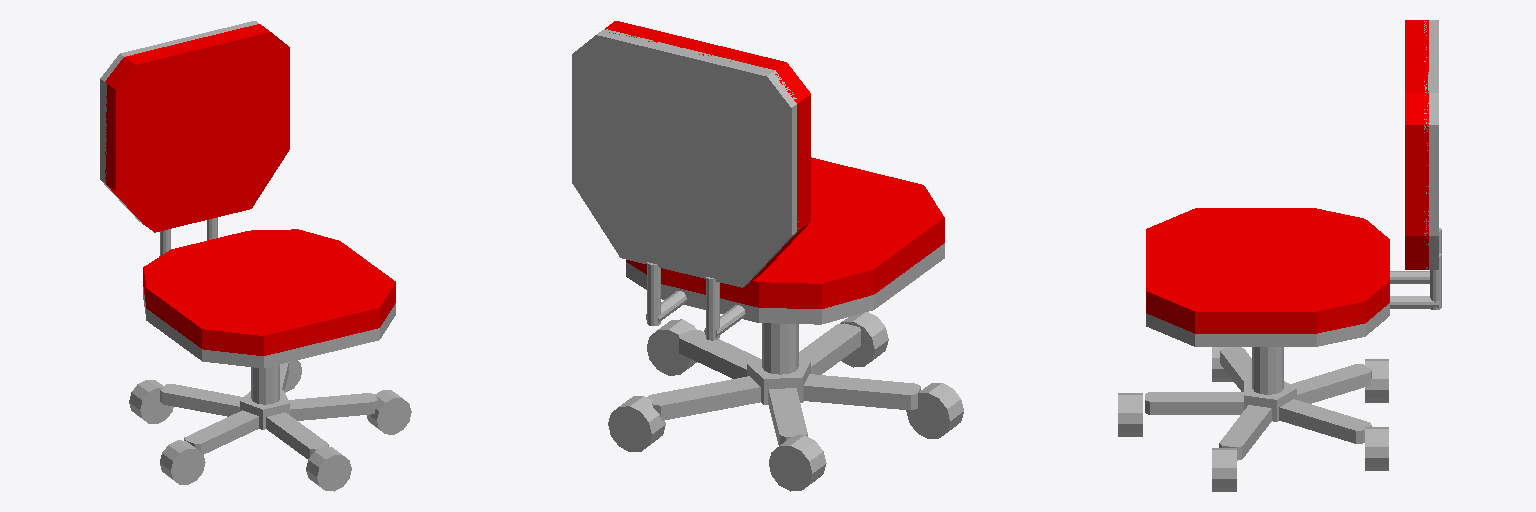
URDF robot description (chair_fixed):
<?xml version="1.0"?>
<robot name="chair_fixed"
       xmlns:xi="http://www.w3.org/2001/XInclude"
       >
  <gazebo>
    <static>false</static>
  </gazebo>
  <link name="nil_link">
    <visual>
      <origin xyz="0 0 0" rpy="0 -0 0"/>
      <geometry>
        <mesh filename="model://chair/meshes/nil_link_mesh.dae" scale="1 1 1" />
      </geometry>
    </visual>
    <collision>
      <origin xyz="0 0 0" rpy="0 -0 0"/>
      <geometry>
        <mesh filename="model://chair/meshes/nil_link_mesh.dae" scale="1 1 1" />
      </geometry>
    </collision>
    <inertial>
      <mass value="0.001" />
      <origin xyz="0 0 0" rpy="0 -0 0"/>
      <inertia ixx="1e-03" ixy="0" ixz="0" iyy="1e-03" iyz="0" izz="1e-03"/>
    </inertial>
  </link>
  <gazebo reference="nil_link">
    <mu1>0.9</mu1>
    <mu2>0.9</mu2>
  </gazebo>
  <!-- Used for fixing robot to Gazebo 'base_link' -->
  <link name="world"/>
  <joint name="fixed" type="fixed">
    <parent link="world"/>
    <child link="nil_link"/>
  </joint>
</robot>

--- Render facts (derived) ---
The picture shows the robot from 3 angles, left to right: view 1: azimuth 30°, elevation 25°; view 2: azimuth 150°, elevation 25°; view 3: azimuth 270°, elevation 25°; orthographic projection.
Robot: chair_fixed — 2 links, 1 joints (1 fixed); root link world; default pose: all joints at 0.
Visible links, largest first — view 1: nil_link; view 2: nil_link; view 3: nil_link.
Link boxes in pixels (<box>): nil_link: <box>100,21,411,491</box>; nil_link: <box>572,21,963,491</box>; nil_link: <box>1118,20,1441,491</box>.
Size in the robot's own frame: 0.6217 by 0.6633 by 0.855 metres.
Meshes: 1 distinct files referenced, 1 mesh visuals loaded (1 Collada DAE).